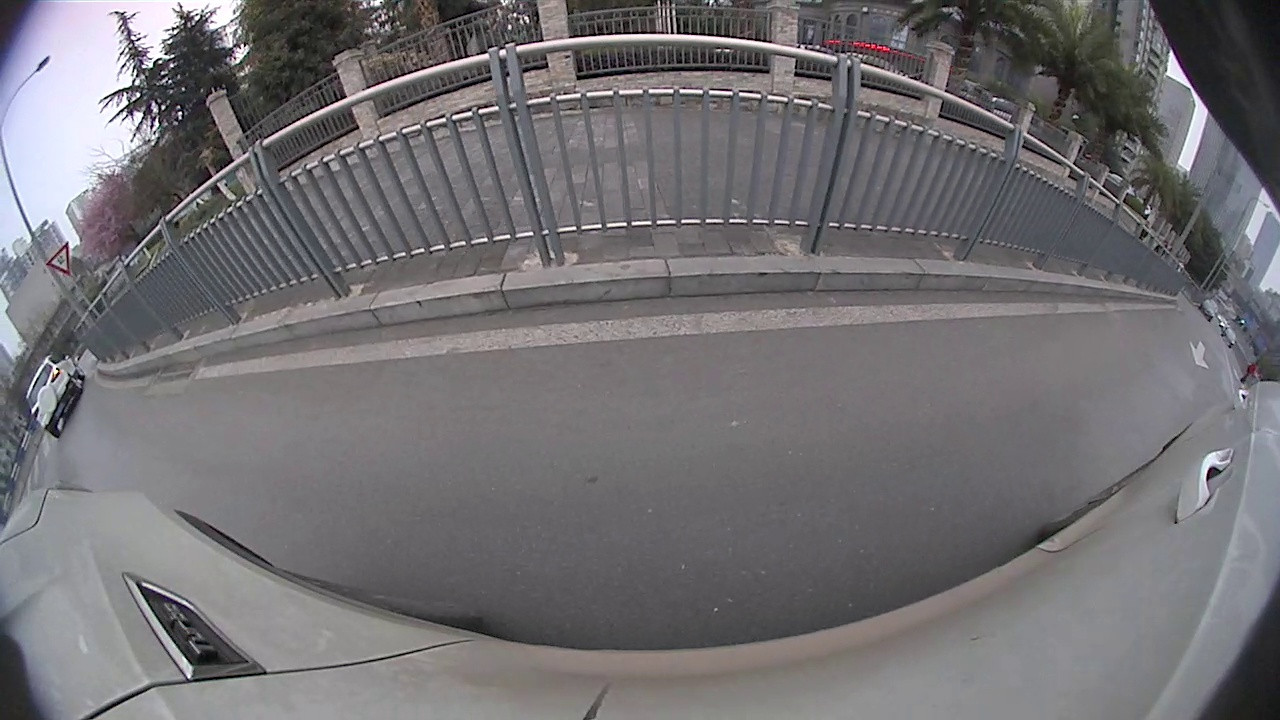car: (1, 277, 94, 397), (1188, 380, 1246, 462)
front: (21, 355, 56, 390), (1202, 423, 1222, 439)
rear: (64, 292, 93, 326), (1218, 449, 1234, 463)
